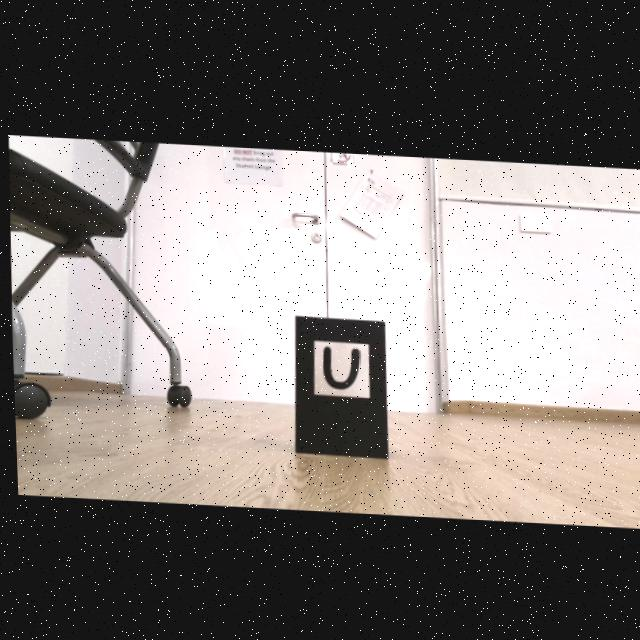U: (321, 343, 357, 387)
